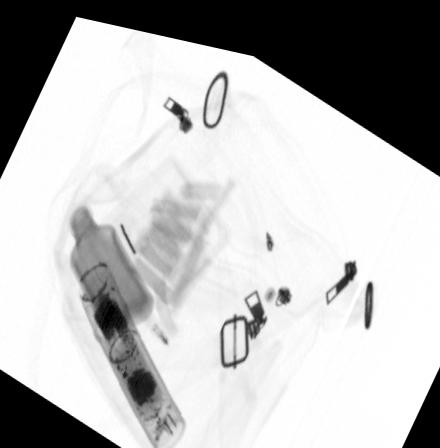Baton: (75, 255, 188, 448)
